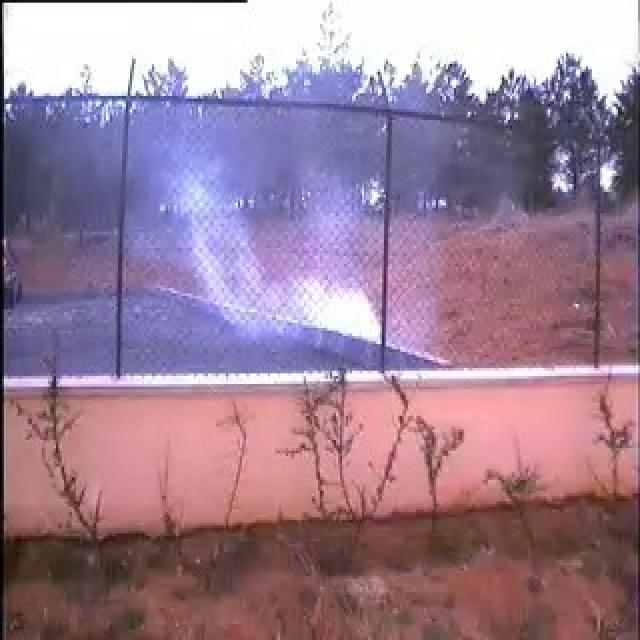smoke: (157, 137, 379, 356)
